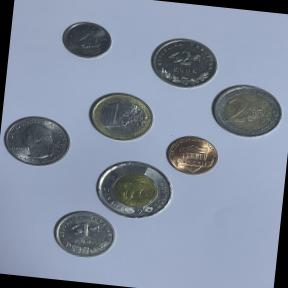coin: (91, 156, 178, 225), (204, 77, 288, 145), (0, 107, 78, 174), (145, 33, 223, 95), (82, 86, 162, 146), (162, 130, 224, 179), (57, 15, 116, 64)
